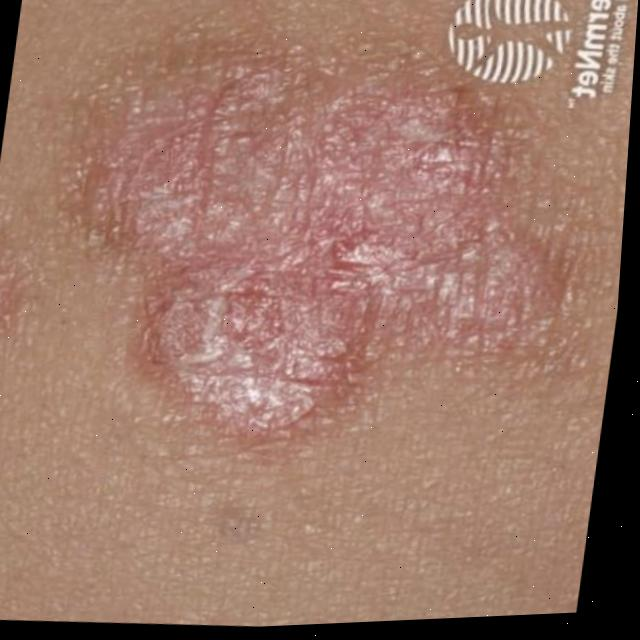Eczema: (0, 26, 581, 475)
